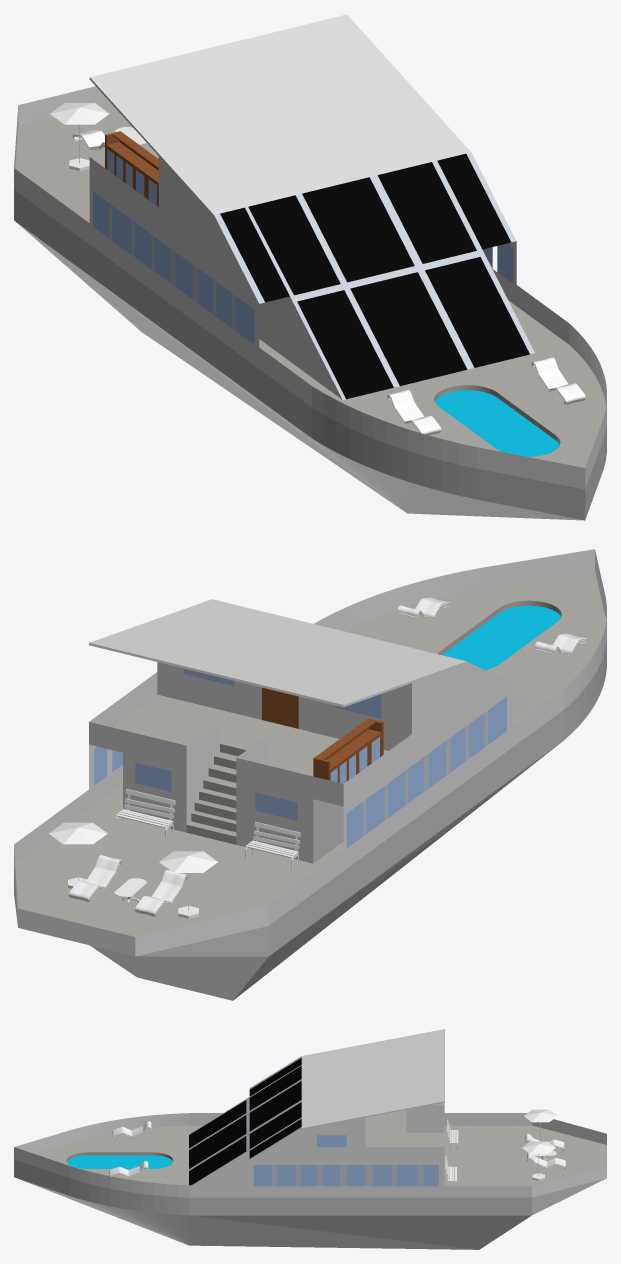
3 renders of one model, top to bottom at view 1: azimuth 30°, elevation 25°; view 2: azimuth 150°, elevation 25°; view 3: azimuth 270°, elevation 25°, orthographic. The views are drawn at different scales.
Visible parts, largest first — view 1: SketchUp.002, SketchUp.044, SketchUp.047, SketchUp.226, SketchUp.007, SketchUp.051, SketchUp.055, SketchUp.052, SketchUp.057, SketchUp.050, SketchUp.053, SketchUp.063 (+14 smaller); view 2: SketchUp.226, SketchUp.007, SketchUp.002, SketchUp.044, SketchUp.047, SketchUp.004, SketchUp.063, SketchUp.025, SketchUp.174, SketchUp.235, SketchUp.151, SketchUp.023 (+16 smaller); view 3: SketchUp.002, SketchUp.007, SketchUp.226, SketchUp.044, SketchUp.047, SketchUp.004, SketchUp.063, SketchUp.051, SketchUp.055, SketchUp.023, SketchUp.052, SketchUp.057 (+16 smaller).
Part boxes in pixels (bbox=[...]): SketchUp.002: bbox=[14, 189, 606, 520]; SketchUp.044: bbox=[158, 91, 470, 303]; SketchUp.047: bbox=[89, 14, 415, 155]; SketchUp.226: bbox=[15, 102, 605, 467]; SketchUp.007: bbox=[14, 107, 606, 489]; SketchUp.051: bbox=[350, 272, 467, 385]; SketchUp.055: bbox=[302, 177, 414, 282]; SketchUp.052: bbox=[425, 257, 529, 367]; SketchUp.057: bbox=[377, 162, 476, 263]; SketchUp.050: bbox=[297, 290, 393, 399]; SketchUp.053: bbox=[248, 195, 340, 295]; SketchUp.063: bbox=[435, 390, 559, 456]; SketchUp.226: bbox=[15, 570, 605, 936]; SketchUp.007: bbox=[14, 549, 606, 956]; SketchUp.002: bbox=[14, 638, 606, 1000]; SketchUp.044: bbox=[157, 599, 511, 756]; SketchUp.047: bbox=[89, 618, 411, 707]; SketchUp.004: bbox=[146, 702, 388, 776]; SketchUp.063: bbox=[442, 605, 561, 669]; SketchUp.025: bbox=[186, 737, 281, 844]; SketchUp.174: bbox=[240, 781, 313, 863]; SketchUp.235: bbox=[18, 908, 135, 956]; SketchUp.151: bbox=[236, 734, 313, 798]; SketchUp.023: bbox=[123, 752, 181, 831]; SketchUp.002: bbox=[14, 1159, 606, 1249]; SketchUp.007: bbox=[14, 1113, 606, 1197]; SketchUp.226: bbox=[34, 1125, 606, 1186]; SketchUp.044: bbox=[250, 1044, 365, 1160]; SketchUp.047: bbox=[365, 1029, 444, 1117]; SketchUp.004: bbox=[365, 1102, 444, 1146]; SketchUp.063: bbox=[67, 1155, 172, 1168]; SketchUp.051: bbox=[189, 1115, 246, 1168]; SketchUp.055: bbox=[249, 1081, 301, 1131]; SketchUp.023: bbox=[194, 1151, 249, 1185]; SketchUp.052: bbox=[189, 1136, 246, 1185]; SketchUp.057: bbox=[249, 1102, 301, 1148].
Bounding box in the file's own units: 51.49 × 56.78 × 179.
Materials: 81 (10 with a texture image).
